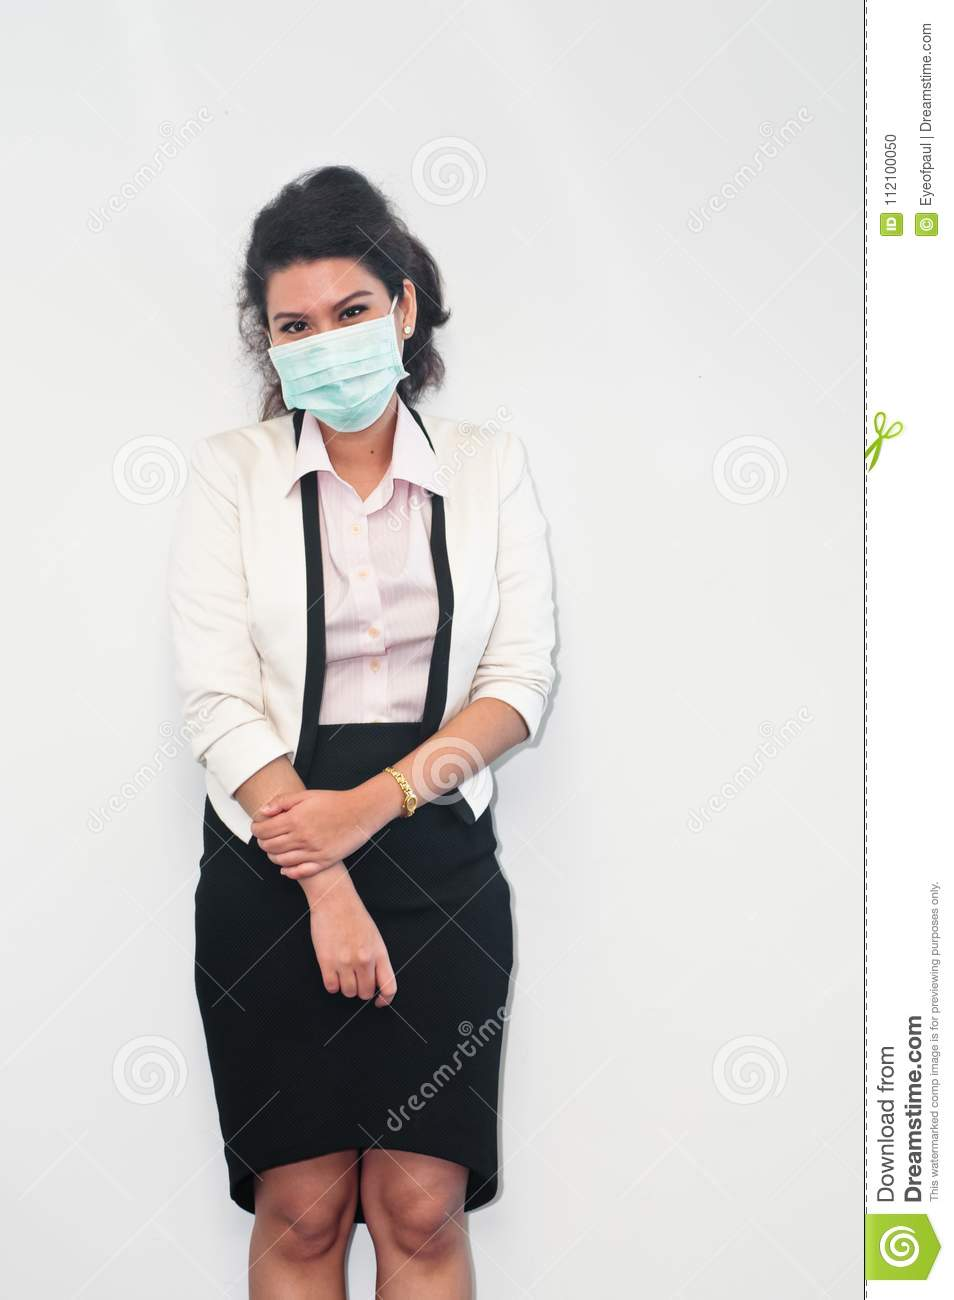mask: (268, 317, 408, 430)
